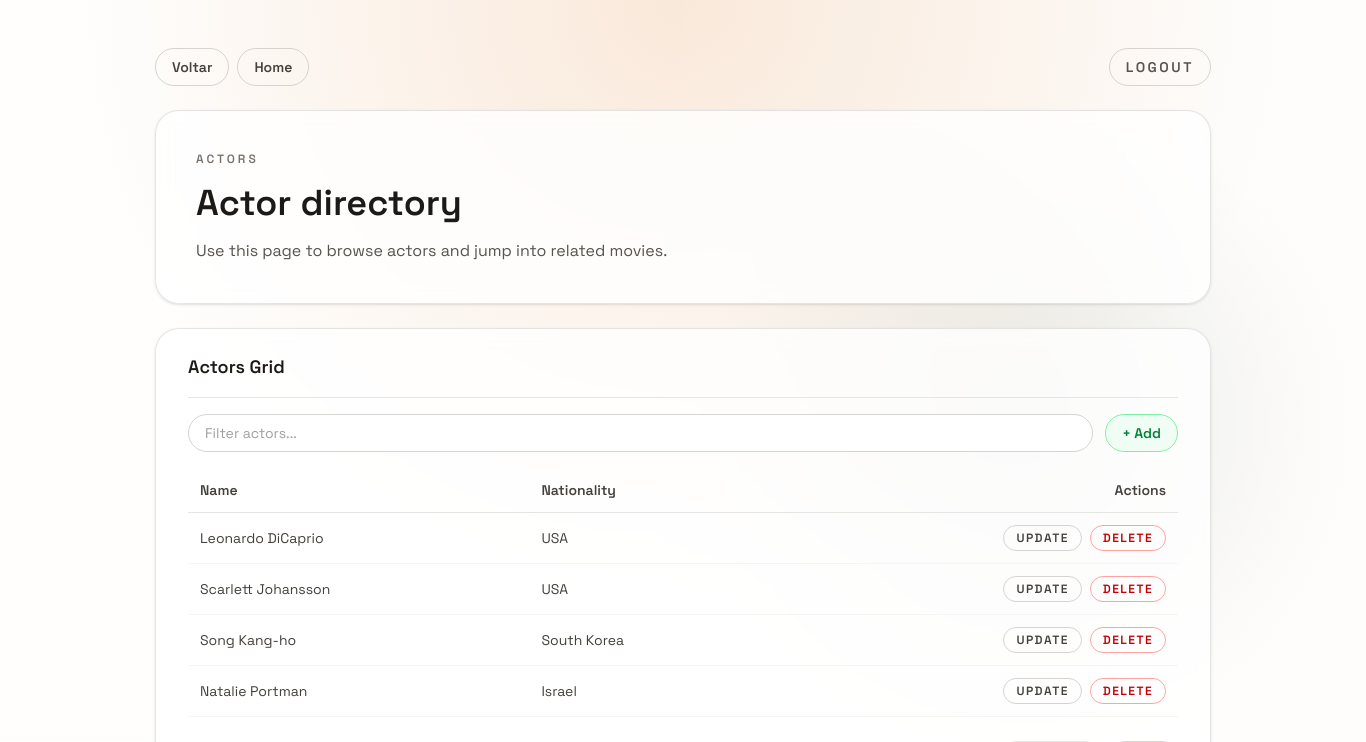
Test: ActorsPage › shows ratings grid when a movie is selected from actor's movies
The width and height of the screenshot is (1366, 742).
Step 1. Click the text "Leonardo DiCaprio" → (262, 538), box [188, 512, 529, 564]
(page scrolled)
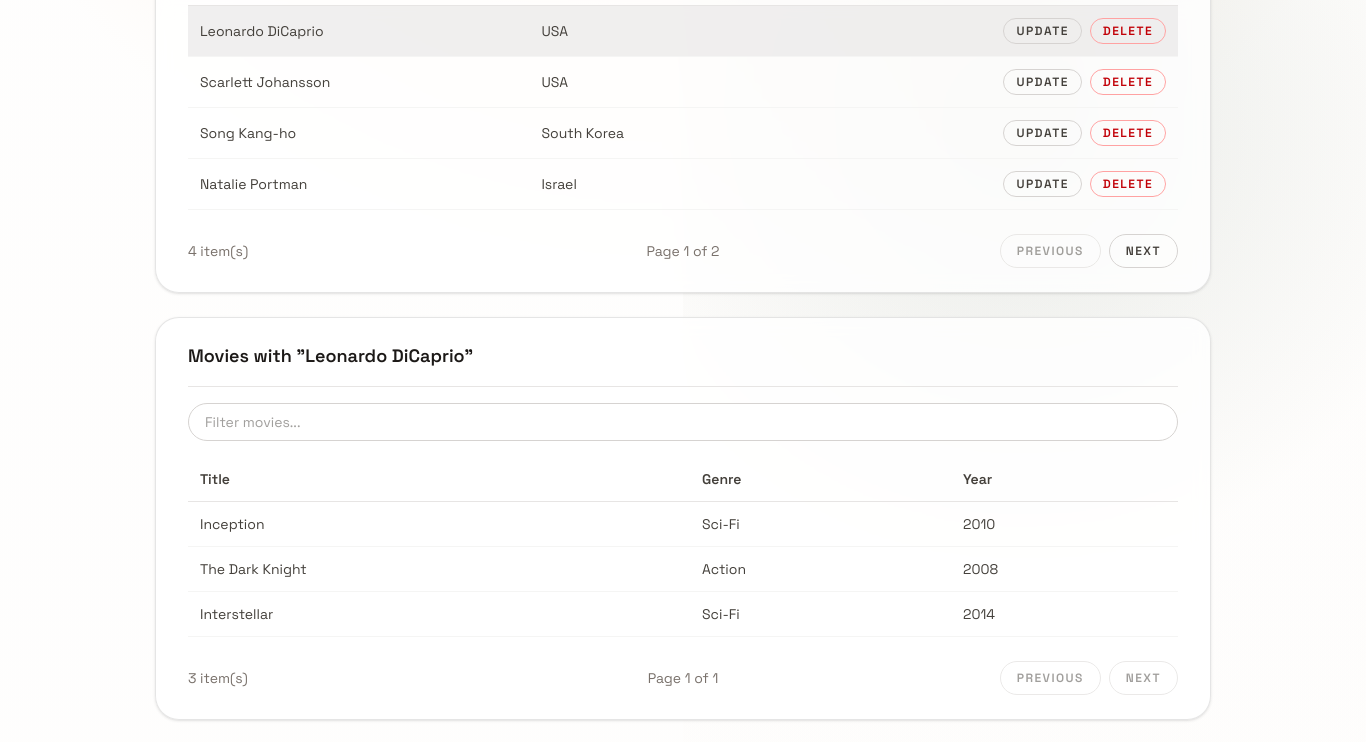
expect the text "Inception" is shown: met
Step 2. Click the text "Inception" → (232, 524), box [188, 502, 690, 546]
(page scrolled)
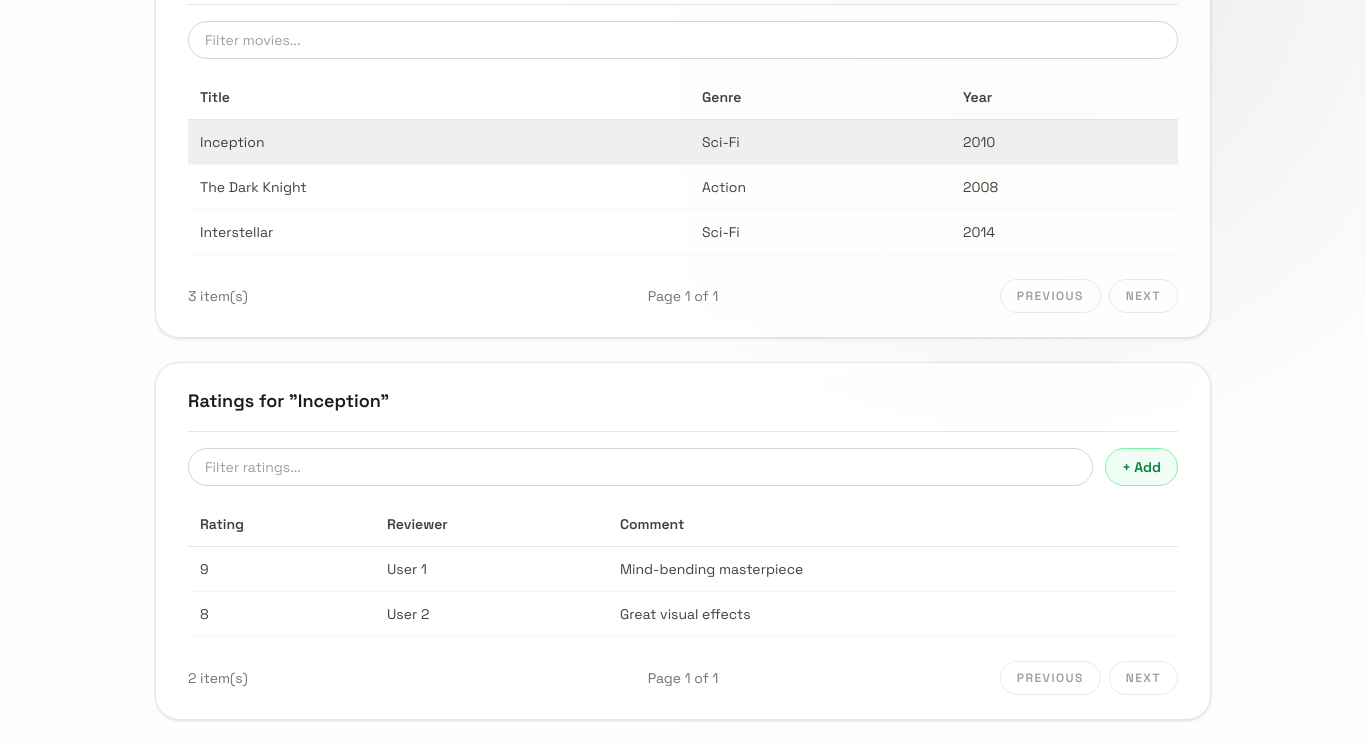
expect the heading "Ratings for \"Inception\"" is shown: met, box [188, 389, 389, 412]
